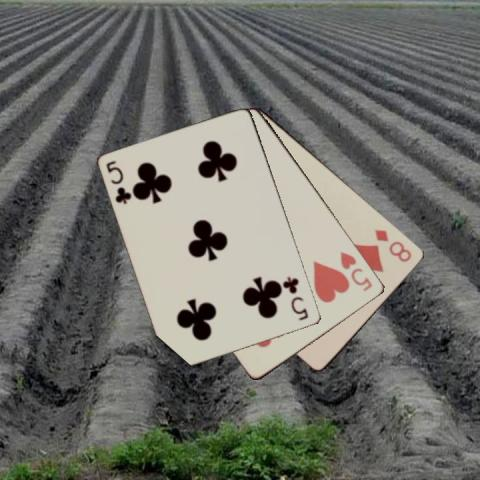5c: (281, 273, 310, 323), (104, 158, 134, 206)
5h: (337, 248, 374, 293)
8d: (372, 226, 413, 263)
